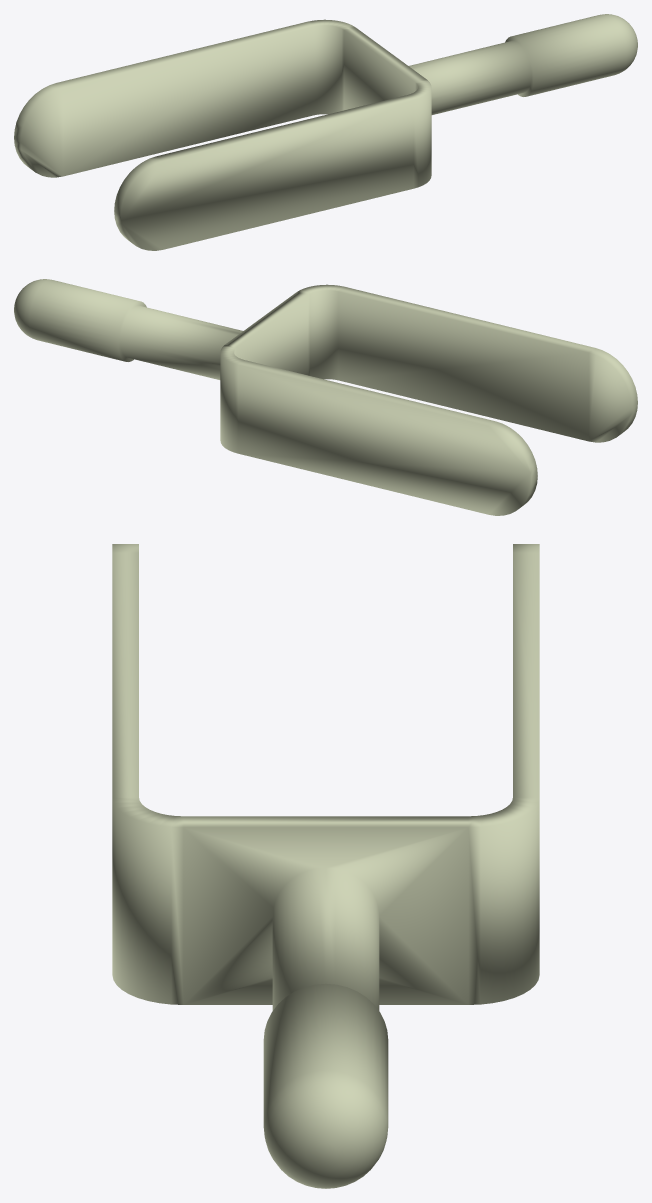
File: tibia_simpler.dae
3 renders of one model, top to bottom at view 1: azimuth 30°, elevation 25°; view 2: azimuth 150°, elevation 25°; view 3: azimuth 270°, elevation 25°, orthographic. The views are drawn at different scales.
Parts seen in each view (by area): view 1: STL object-0; view 2: STL object-0; view 3: STL object-0.
Boxes of the visible parts, x1,y1,x2,y2 form: STL object-0: (14,14,637,250); STL object-0: (14,279,637,515); STL object-0: (112,544,539,1188).
Size of the model in its own units: 147 by 22 by 48.
